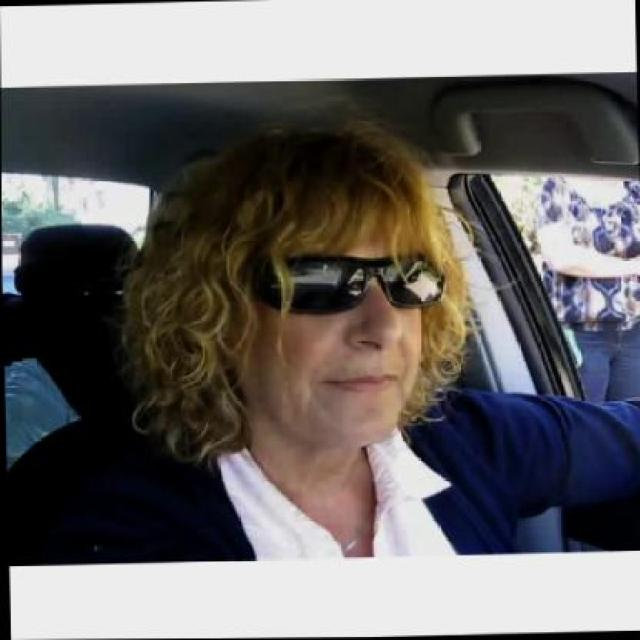attentif: (232, 121, 450, 450)
